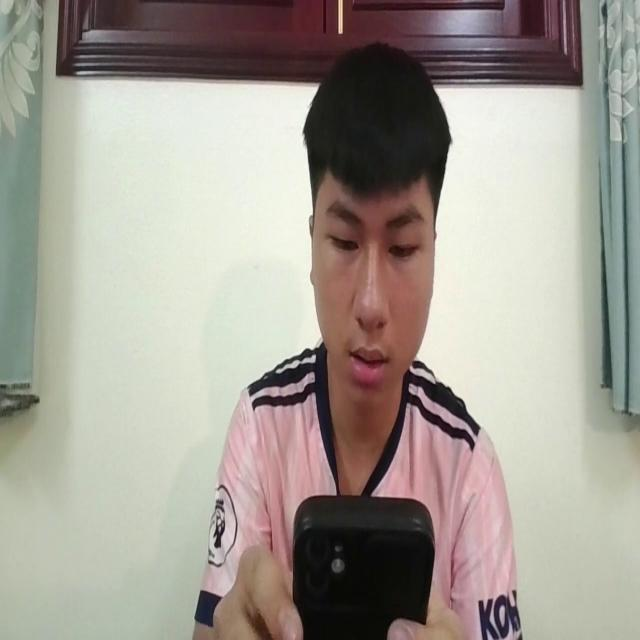phone: (289, 483, 436, 640)
student: (189, 39, 523, 640)
